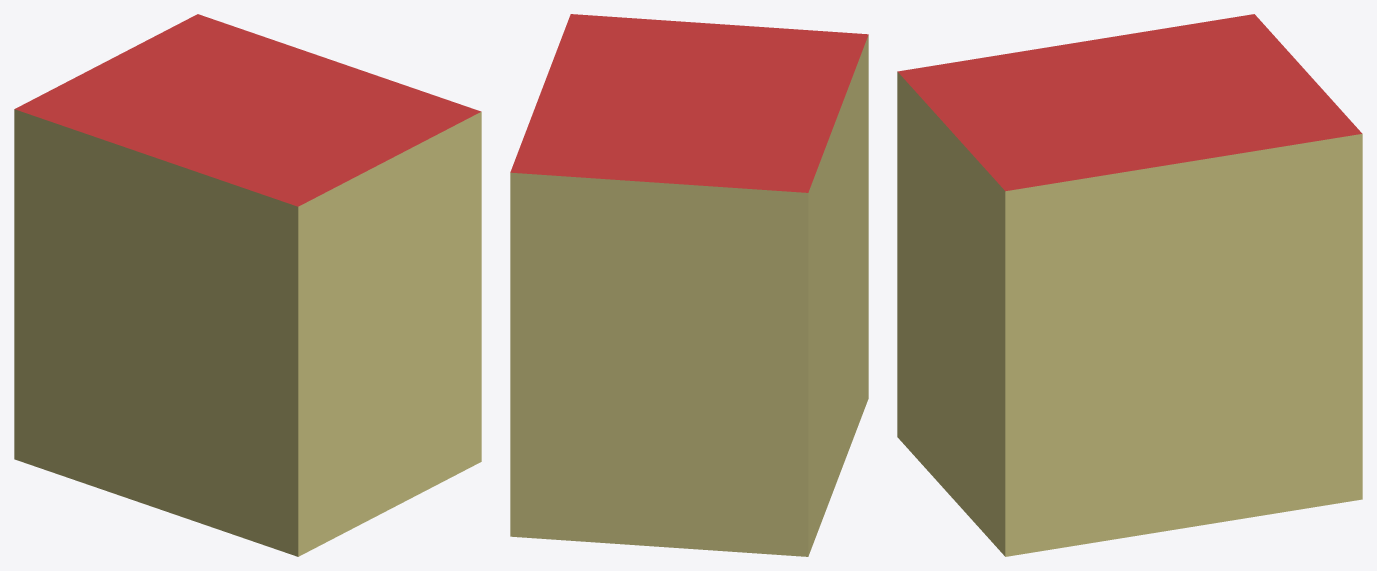
3 views of the same model, side by side, from view 1: azimuth 30°, elevation 25°; view 2: azimuth 150°, elevation 25°; view 3: azimuth 270°, elevation 25° (orthographic). The views are drawn at different scales.
Bounding box in the file's own units: 5.73 × 6.36 × 5.52.
